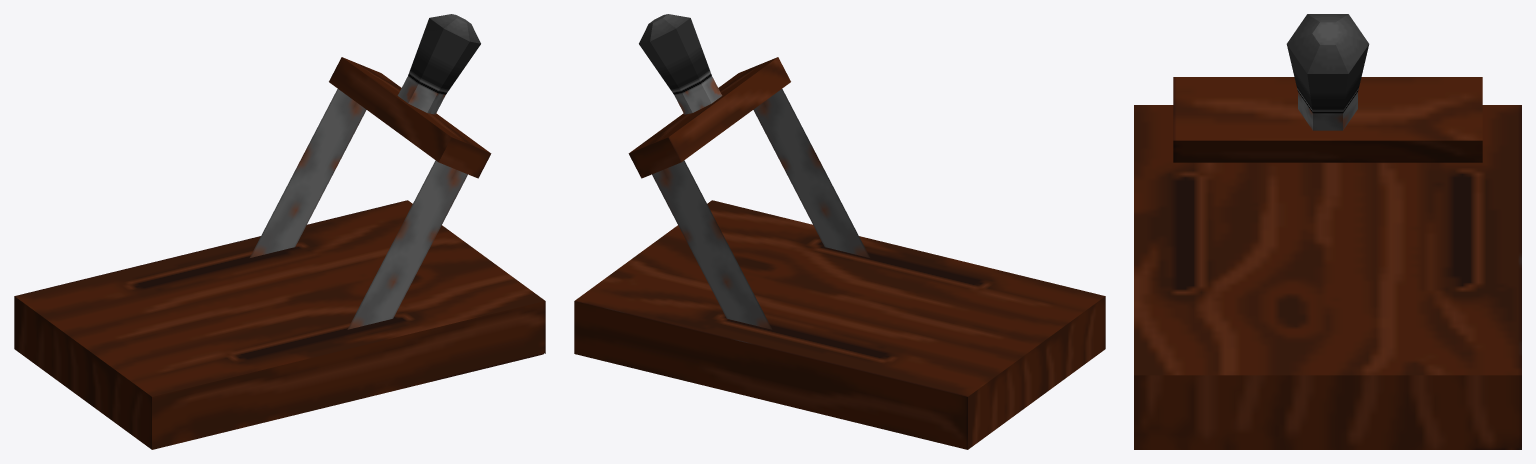
The model's file is palanca.fbx.
3 views of the same model, side by side, from view 1: azimuth 30°, elevation 25°; view 2: azimuth 150°, elevation 25°; view 3: azimuth 270°, elevation 25° (orthographic). The views are drawn at different scales.
Parts seen in each view (by area): view 1: Base, Plane, Cube.001, Agarre; view 2: Base, Plane, Cube.001, Agarre; view 3: Base, Cube.001, Agarre.
Boxes of the visible parts, x1,y1,x2,y2 form: Base: [14, 200, 545, 449]; Plane: [250, 89, 467, 329]; Cube.001: [329, 57, 491, 178]; Agarre: [397, 14, 480, 114]; Base: [574, 200, 1105, 449]; Plane: [652, 89, 869, 329]; Cube.001: [628, 57, 790, 178]; Agarre: [639, 14, 722, 114]; Base: [1134, 105, 1521, 449]; Cube.001: [1173, 77, 1482, 162]; Agarre: [1286, 14, 1369, 130].
Bounding box in the file's own units: 47.93 × 79.07 × 56.27.
1 material, 1 textured.
